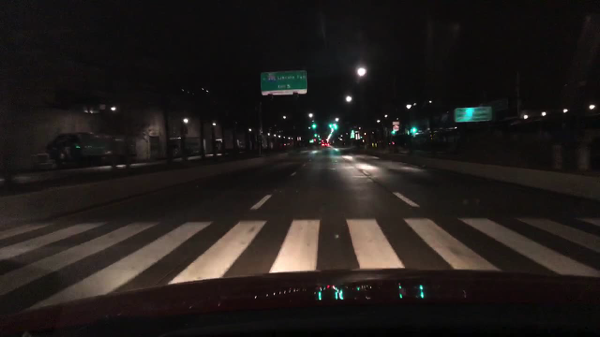car: (319, 139, 329, 147)
traffic light: (411, 127, 417, 134), (390, 129, 396, 135), (332, 124, 338, 130), (327, 123, 333, 129), (310, 123, 316, 129), (313, 132, 317, 139)
traffic sign: (259, 70, 306, 97), (453, 107, 491, 123), (479, 97, 507, 112), (392, 125, 399, 130), (392, 121, 399, 126), (483, 161, 488, 162)
truck: (34, 132, 138, 169), (167, 135, 206, 157), (213, 139, 235, 153)
